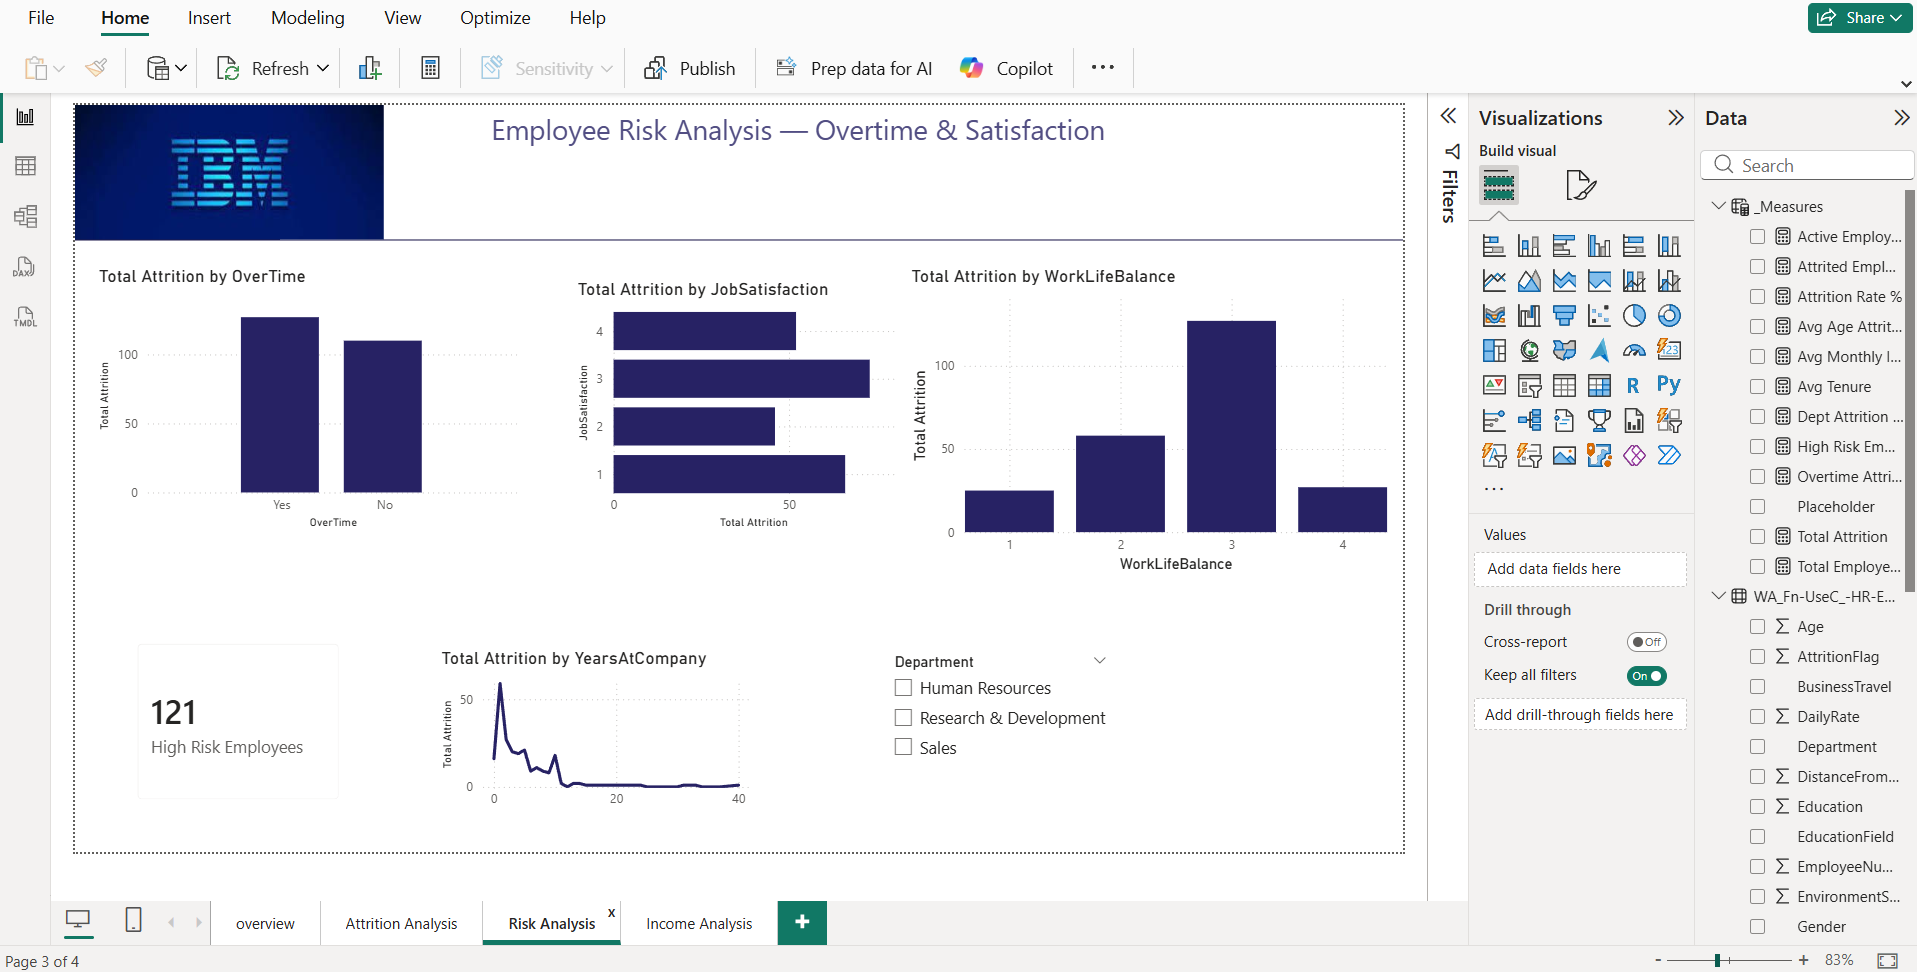

What the dashboard file says about the page in this screenshot:
{"tool":"powerbi","page":{"name":"Risk Analysis","canvas":[1280,720],"ordinal":2},"visuals":[{"type":"clusteredColumnChart","fields":{"Category":["WA_Fn-UseC_-HR-Employee-Attrition.OverTime"],"Y":["_Measures.Total Attrition"]},"box":[18,154.4,414.8,259.2],"z":0},{"type":"clusteredBarChart","fields":{"Category":["WA_Fn-UseC_-HR-Employee-Attrition.JobSatisfaction"],"Y":["_Measures.Total Attrition"]},"box":[479,167.9,322.4,245.7],"z":1000},{"type":"columnChart","fields":{"Category":["WA_Fn-UseC_-HR-Employee-Attrition.WorkLifeBalance"],"Y":["_Measures.Total Attrition"]},"box":[801.5,153.7,468.7,301.5],"z":2000},{"type":"cardVisual","fields":{"Data":["_Measures.High Risk Employees"]},"box":[44,502.7,228.8,184.8],"z":3000},{"type":"lineChart","fields":{"Category":["WA_Fn-UseC_-HR-Employee-Attrition.YearsAtCompany"],"Y":["_Measures.Total Attrition"]},"box":[348.3,523,306.6,164.6],"z":4000},{"type":"slicer","fields":{"Values":["WA_Fn-UseC_-HR-Employee-Attrition.Department"]},"box":[776.6,523,229.9,165.7],"z":5000},{"type":"shape","box":[0,0,1280.4,259.2],"z":6000},{"type":"textbox","box":[197.2,0,1083.2,129.6],"z":7000},{"type":"image","box":[0,0,297.6,129.6],"z":8000}]}

Visuals, with their boxes on the page's 1280x720 design canvas (x1, y1, x2, y2). These are canvas units, not pixel positions in the 1917x972 screenshot, which may show the page scaled, cropped or inside an application window:
clusteredColumnChart - WA_Fn-UseC_-HR-Employee-Attrition.OverTime x _Measures.Total Attrition: <region>18, 154, 433, 414</region>
clusteredBarChart - WA_Fn-UseC_-HR-Employee-Attrition.JobSatisfaction x _Measures.Total Attrition: <region>479, 168, 801, 414</region>
columnChart - WA_Fn-UseC_-HR-Employee-Attrition.WorkLifeBalance x _Measures.Total Attrition: <region>802, 154, 1270, 455</region>
cardVisual - _Measures.High Risk Employees: <region>44, 503, 273, 688</region>
lineChart - WA_Fn-UseC_-HR-Employee-Attrition.YearsAtCompany x _Measures.Total Attrition: <region>348, 523, 655, 688</region>
slicer - WA_Fn-UseC_-HR-Employee-Attrition.Department: <region>777, 523, 1006, 689</region>
shape: <region>0, 0, 1280, 259</region>
textbox: <region>197, 0, 1280, 130</region>
image: <region>0, 0, 298, 130</region>
